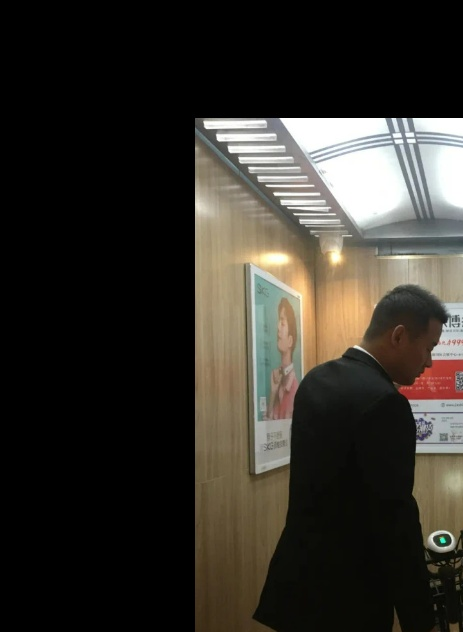person: (270, 284, 442, 632)
